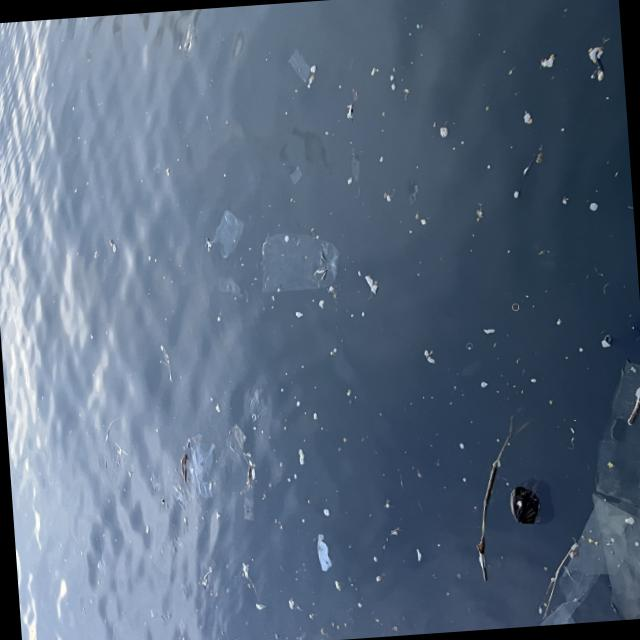plastic bag: (254, 234, 340, 291)
